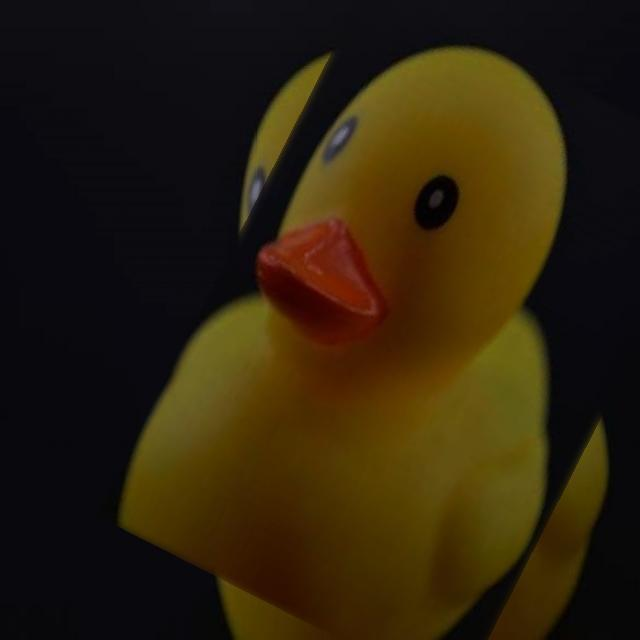rubber-duck: (119, 46, 606, 638)
